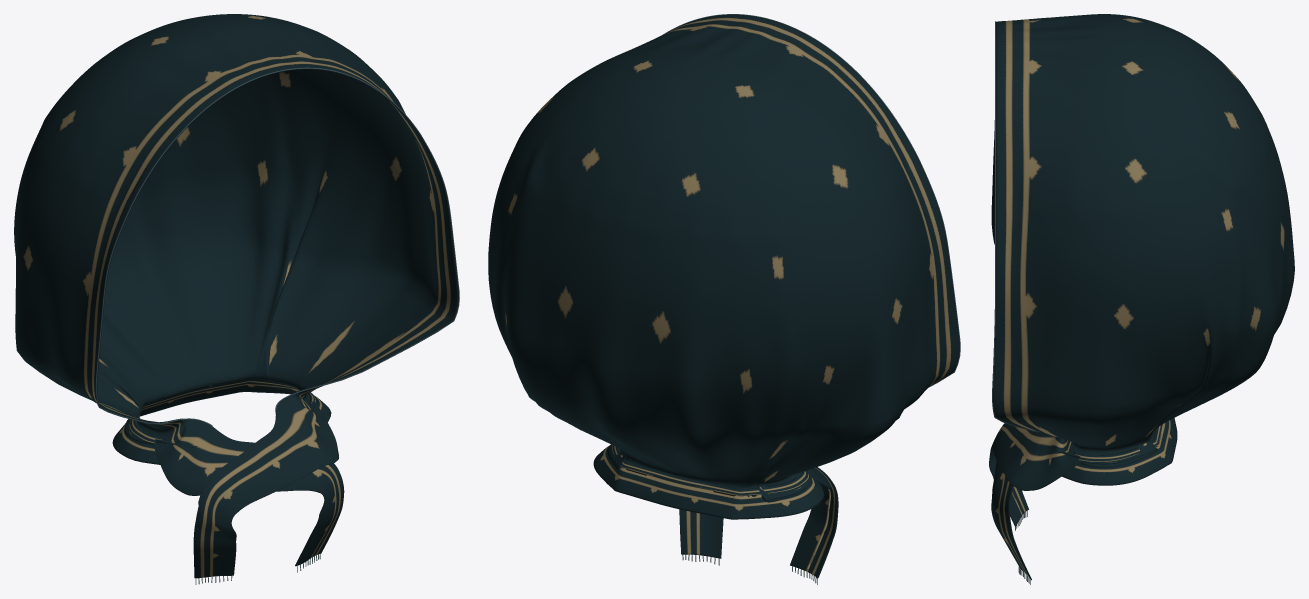
File: Feminine-triangle-pashmina241-headgear.glb
3 renders of one model, left to right at view 1: azimuth 30°, elevation 25°; view 2: azimuth 150°, elevation 25°; view 3: azimuth 270°, elevation 25°, orthographic. The views are drawn at different scales.
Visible parts, largest first — view 1: 226 headgear / Headwear / continuous woven pashmina239, 226 headgear / Headwear / face edge239; view 2: 226 headgear / Headwear / continuous woven pashmina239, 226 headgear / Headwear / face edge239; view 3: 226 headgear / Headwear / continuous woven pashmina239, 226 headgear / Headwear / face edge239.
Part boxes in pixels (x1,y1,x2,y2): 226 headgear / Headwear / continuous woven pashmina239: (14,14,458,578); 226 headgear / Headwear / face edge239: (95,67,459,426); 226 headgear / Headwear / continuous woven pashmina239: (488,14,959,578); 226 headgear / Headwear / face edge239: (663,14,960,387); 226 headgear / Headwear / continuous woven pashmina239: (989,14,1294,580); 226 headgear / Headwear / face edge239: (992,21,1040,432).
Size of the model in its own units: 1.02 by 1.35 by 0.7175.
Materials: 3 (1 with a texture image).
